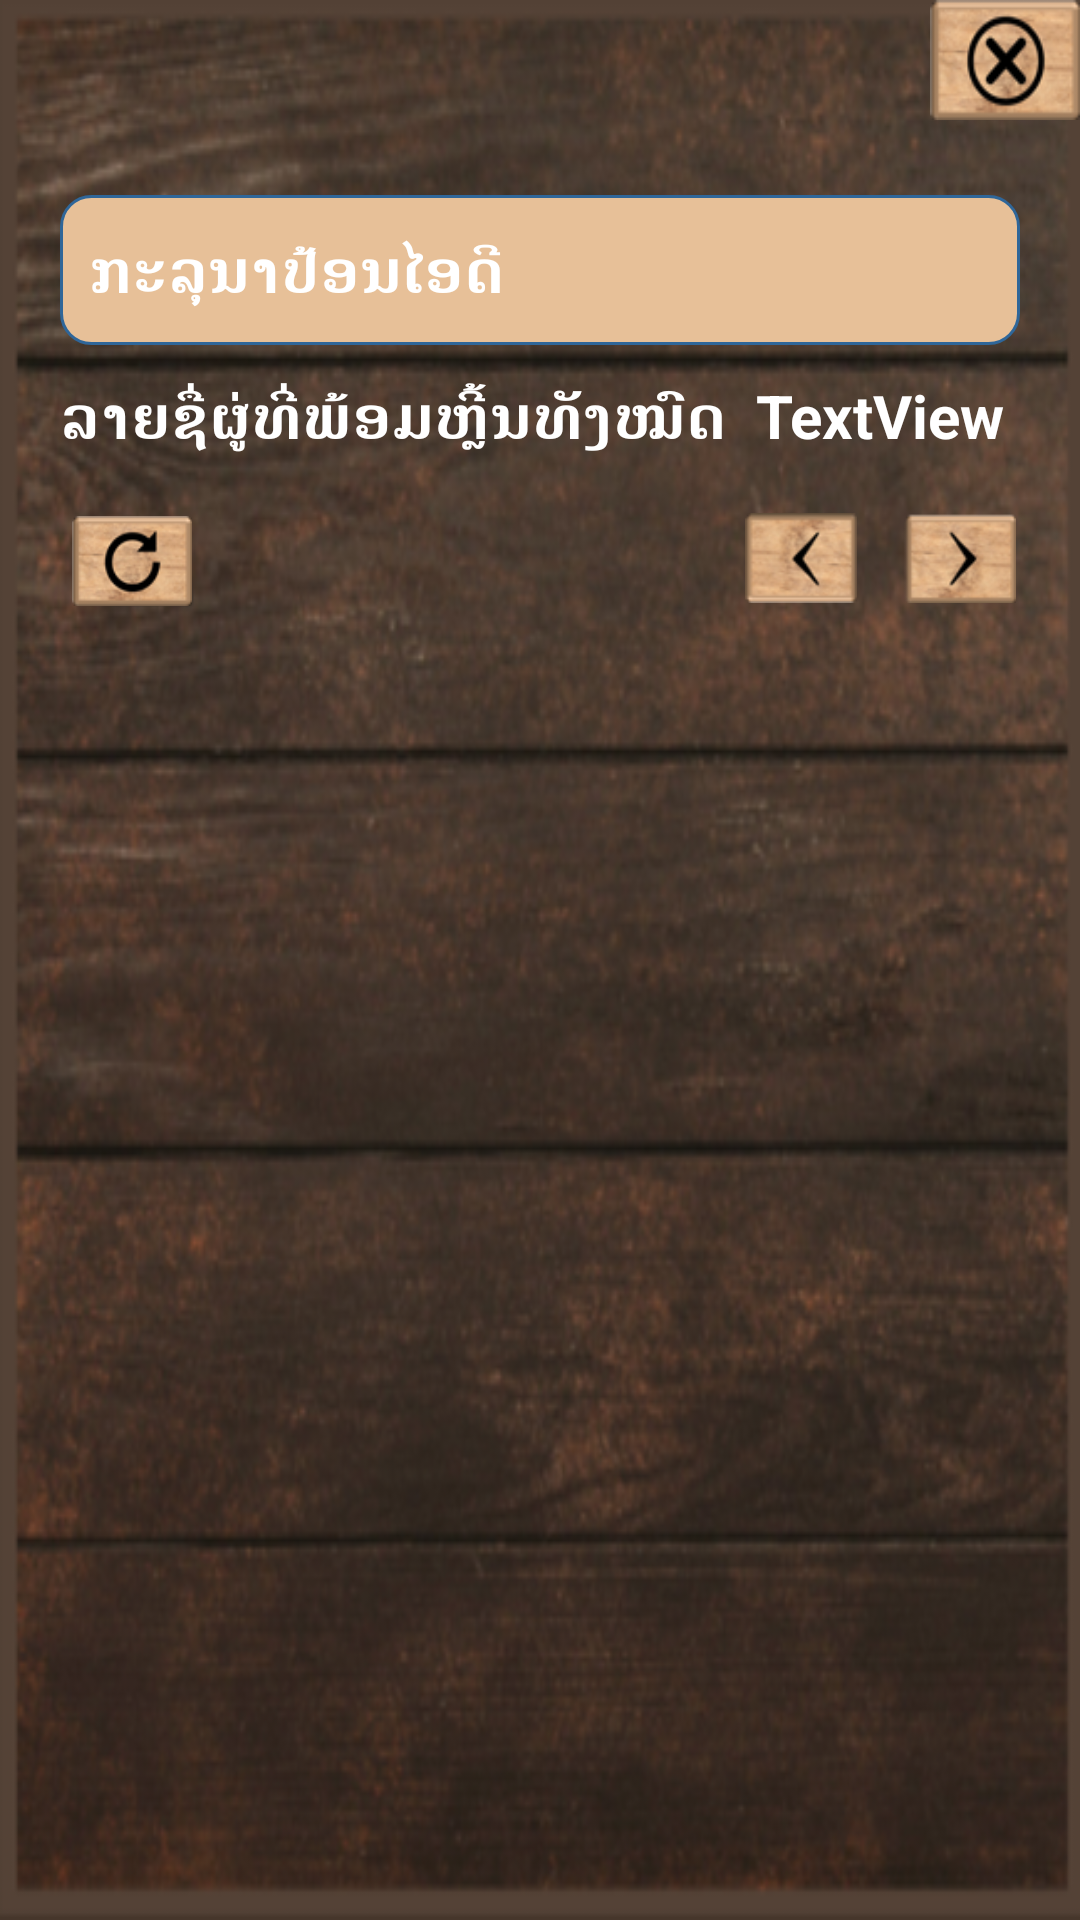

Icon bounding boxes for this 1080px×1920px phone screenshot, format (x1, y1, x2, y2):
forward arrow: (906, 514, 1016, 603)
previous arrow: (745, 514, 857, 603)
